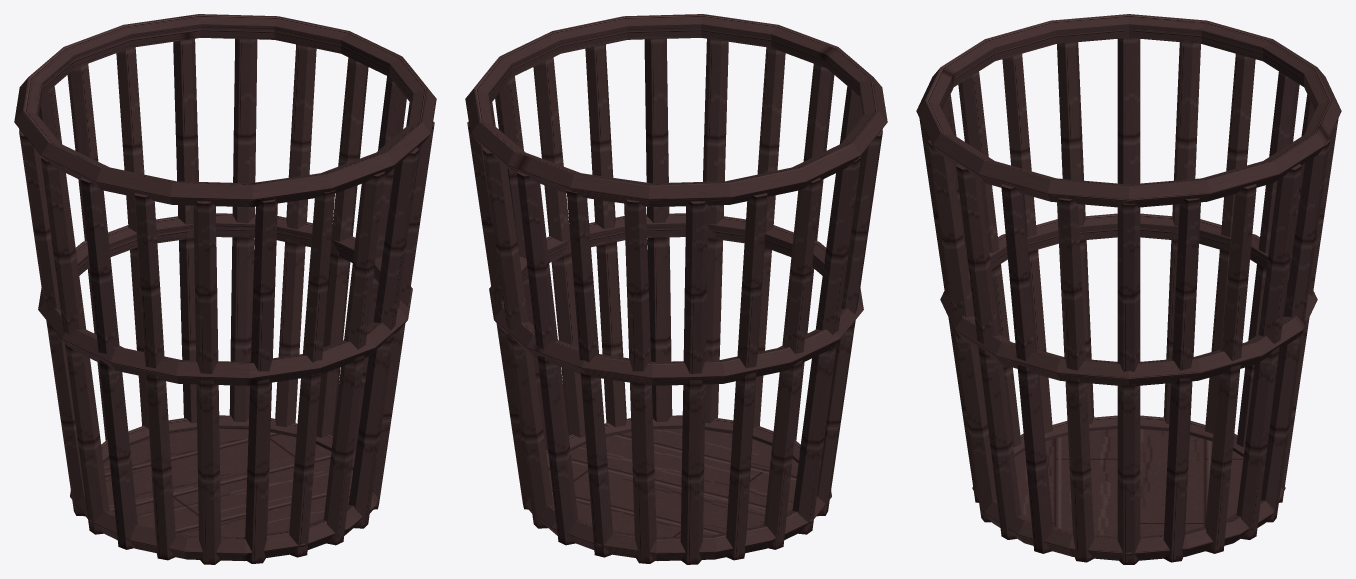
The model's file is MD_99_LaundryBasket.fbx.
3 renders of one model, left to right at view 1: azimuth 30°, elevation 25°; view 2: azimuth 150°, elevation 25°; view 3: azimuth 270°, elevation 25°, orthographic.
Visible parts, largest first — view 1: MD_99_LaundryBasket_basket_binding.002, MD_99_LaundryBasket_basket_binding.001, MD_99_LaundryBasket_basket_floor, MD_99_LaundryBasket_basket_reed.013, MD_99_LaundryBasket_basket_reed.016, MD_99_LaundryBasket_basket_reed.017, MD_99_LaundryBasket_basket_reed.010, MD_99_LaundryBasket_basket_reed.014, MD_99_LaundryBasket_basket_reed.011, MD_99_LaundryBasket_basket_reed.012, MD_99_LaundryBasket_basket_reed.003, MD_99_LaundryBasket_basket_reed.015 (+10 smaller); view 2: MD_99_LaundryBasket_basket_binding.002, MD_99_LaundryBasket_basket_binding.001, MD_99_LaundryBasket_basket_floor, MD_99_LaundryBasket_basket_reed.007, MD_99_LaundryBasket_basket_reed.004, MD_99_LaundryBasket_basket_reed.003, MD_99_LaundryBasket_basket_reed.010, MD_99_LaundryBasket_basket_reed.006, MD_99_LaundryBasket_basket_reed.009, MD_99_LaundryBasket_basket_reed.008, MD_99_LaundryBasket_basket_reed.017, MD_99_LaundryBasket_basket_reed.005 (+10 smaller); view 3: MD_99_LaundryBasket_basket_binding.002, MD_99_LaundryBasket_basket_binding.001, MD_99_LaundryBasket_basket_floor, MD_99_LaundryBasket_basket_reed, MD_99_LaundryBasket_basket_reed.017, MD_99_LaundryBasket_basket_reed.003, MD_99_LaundryBasket_basket_reed.001, MD_99_LaundryBasket_basket_reed.019, MD_99_LaundryBasket_basket_reed.002, MD_99_LaundryBasket_basket_reed.018, MD_99_LaundryBasket_basket_reed.004, MD_99_LaundryBasket_basket_reed.016 (+12 smaller).
Boxes of the visible parts, box(x1,y1,x2,y2) form: MD_99_LaundryBasket_basket_binding.002: box(14, 14, 436, 207); MD_99_LaundryBasket_basket_binding.001: box(38, 213, 412, 385); MD_99_LaundryBasket_basket_floor: box(103, 428, 353, 537); MD_99_LaundryBasket_basket_reed.013: box(193, 201, 221, 564); MD_99_LaundryBasket_basket_reed.016: box(323, 171, 384, 545); MD_99_LaundryBasket_basket_reed.017: box(348, 147, 419, 528); MD_99_LaundryBasket_basket_reed.010: box(41, 157, 109, 534); MD_99_LaundryBasket_basket_reed.014: box(245, 199, 277, 563); MD_99_LaundryBasket_basket_reed.011: box(81, 177, 137, 549); MD_99_LaundryBasket_basket_reed.012: box(134, 193, 175, 560); MD_99_LaundryBasket_basket_reed.003: box(229, 39, 257, 421); MD_99_LaundryBasket_basket_reed.015: box(289, 190, 335, 557); MD_99_LaundryBasket_basket_binding.002: box(465, 14, 887, 207); MD_99_LaundryBasket_basket_binding.001: box(489, 213, 863, 385); MD_99_LaundryBasket_basket_floor: box(548, 428, 798, 537); MD_99_LaundryBasket_basket_reed.007: box(680, 201, 708, 564); MD_99_LaundryBasket_basket_reed.004: box(517, 171, 578, 545); MD_99_LaundryBasket_basket_reed.003: box(482, 147, 553, 528); MD_99_LaundryBasket_basket_reed.010: box(792, 157, 860, 534); MD_99_LaundryBasket_basket_reed.006: box(624, 199, 656, 563); MD_99_LaundryBasket_basket_reed.009: box(764, 177, 820, 549); MD_99_LaundryBasket_basket_reed.008: box(726, 193, 767, 560); MD_99_LaundryBasket_basket_reed.017: box(644, 39, 672, 421); MD_99_LaundryBasket_basket_reed.005: box(566, 190, 612, 557); MD_99_LaundryBasket_basket_binding.002: box(916, 14, 1341, 207); MD_99_LaundryBasket_basket_binding.001: box(940, 213, 1317, 385); MD_99_LaundryBasket_basket_floor: box(1014, 429, 1243, 536); MD_99_LaundryBasket_basket_reed: box(1117, 203, 1140, 564); MD_99_LaundryBasket_basket_reed.017: box(956, 163, 1021, 539); MD_99_LaundryBasket_basket_reed.003: box(1236, 163, 1301, 539); MD_99_LaundryBasket_basket_reed.001: box(1163, 198, 1200, 562); MD_99_LaundryBasket_basket_reed.019: box(1057, 198, 1094, 562); MD_99_LaundryBasket_basket_reed.002: box(1205, 184, 1256, 553); MD_99_LaundryBasket_basket_reed.018: box(1001, 184, 1052, 553); MD_99_LaundryBasket_basket_reed.004: box(1261, 140, 1329, 522); MD_99_LaundryBasket_basket_reed.016: box(928, 140, 996, 522).
Size of the model in its own units: 0.532 by 0.5518 by 0.532.
Materials: 1 (1 with a texture image).
